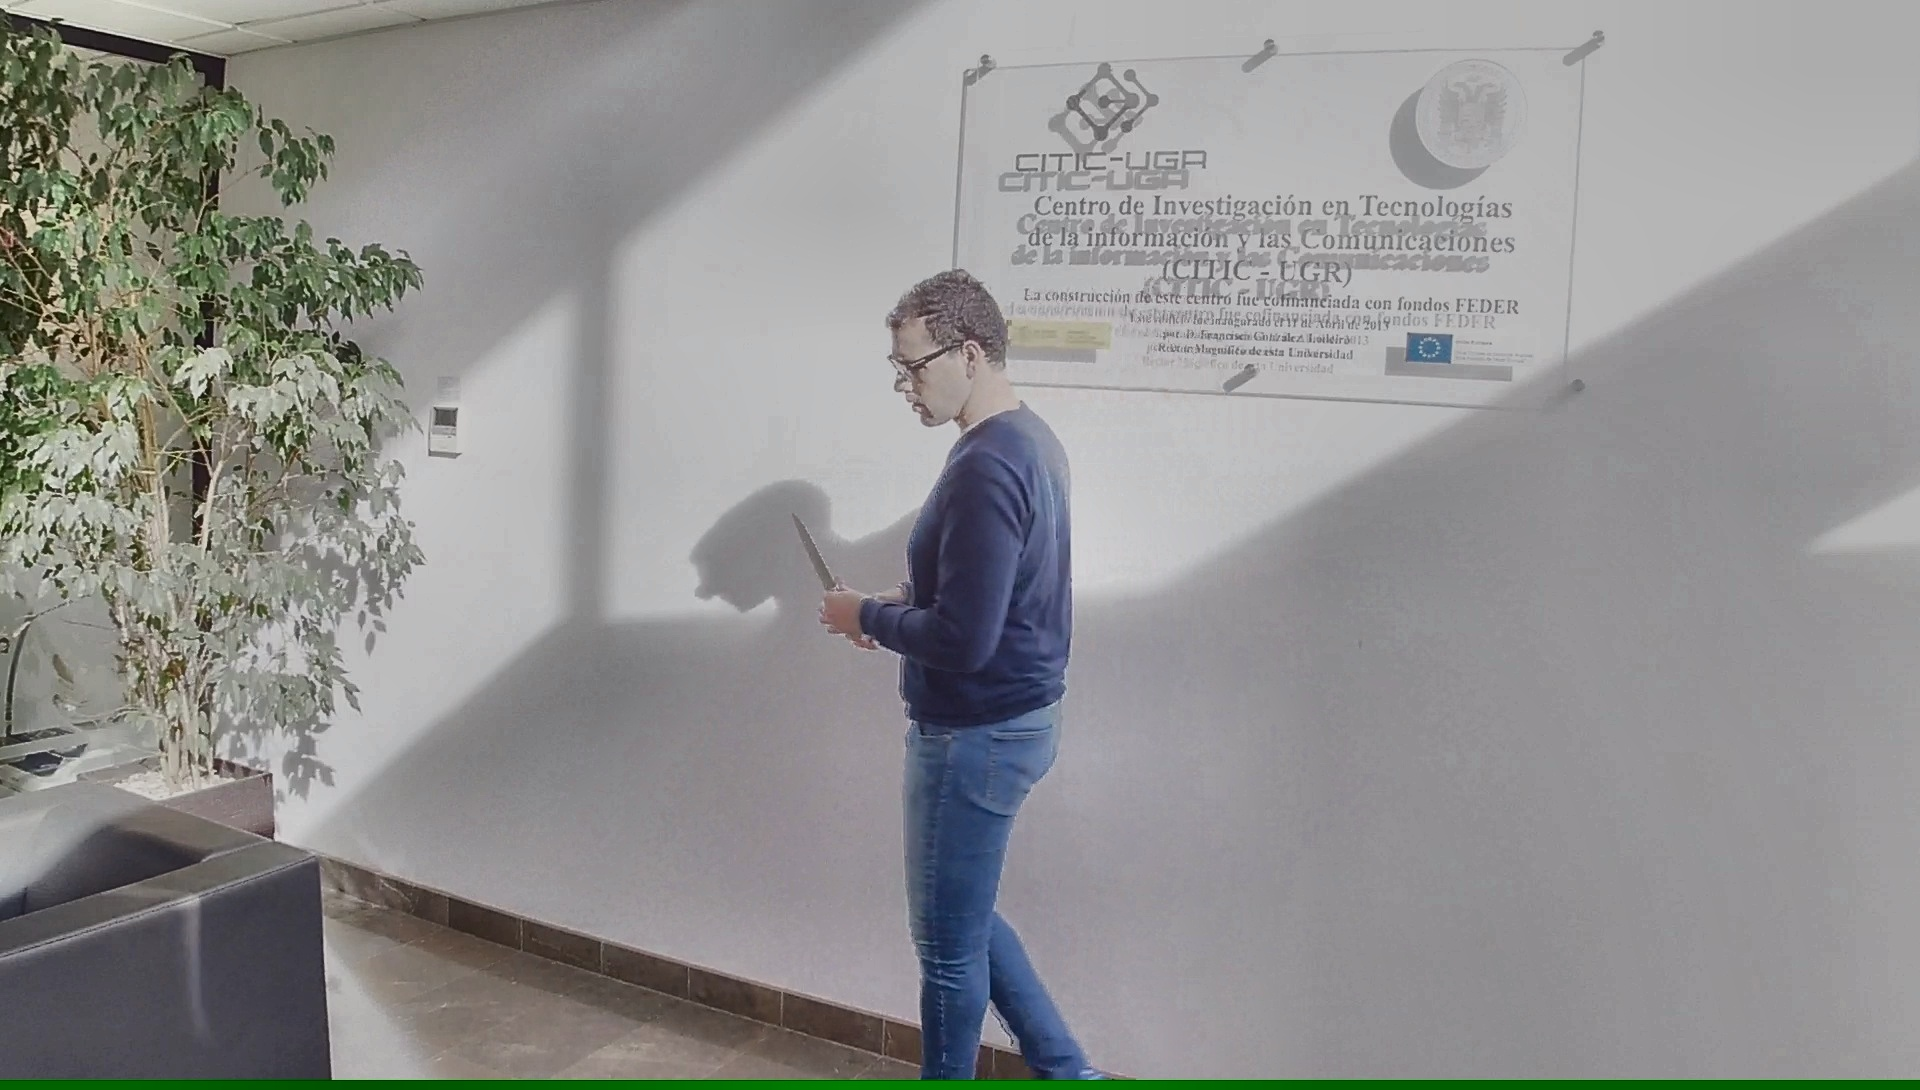knife: (783, 501, 860, 634)
